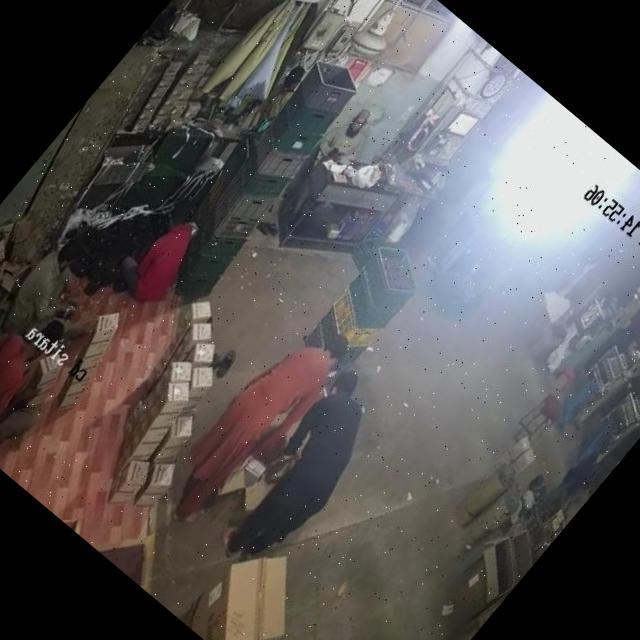person: (170, 310, 351, 512), (217, 368, 396, 562), (111, 196, 213, 306), (0, 306, 70, 439), (8, 234, 98, 329), (300, 102, 376, 185), (248, 58, 310, 128)
